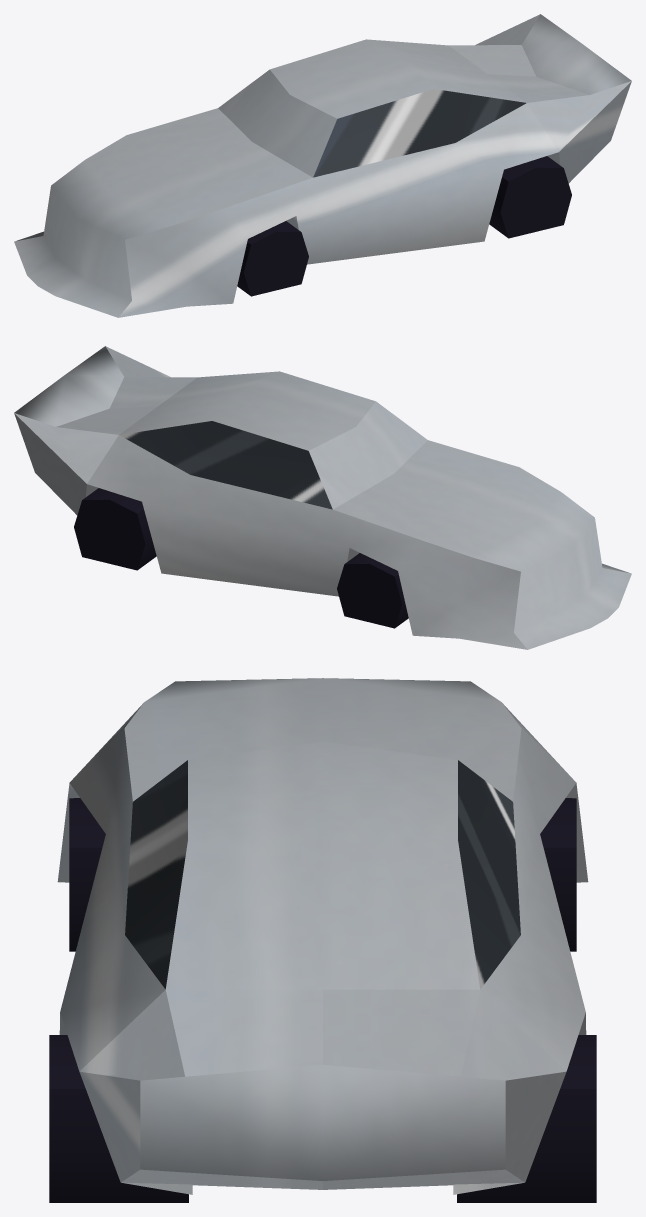
File: SM_Bolide.fbx
3 renders of one model, top to bottom at view 1: azimuth 30°, elevation 25°; view 2: azimuth 150°, elevation 25°; view 3: azimuth 270°, elevation 25°, orthographic. The views are drawn at different scales.
Parts seen in each view (by area): view 1: SM_Bolide; view 2: SM_Bolide; view 3: SM_Bolide.
Part boxes in pixels (<box>): SM_Bolide: <box>14,14,631,317</box>; SM_Bolide: <box>14,346,631,649</box>; SM_Bolide: <box>49,678,596,1202</box>.
Bounding box in the file's own units: 720 × 311 × 176.
1 material, 1 textured.
